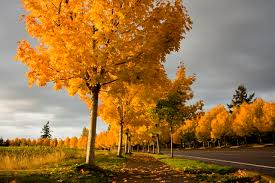tree: (42, 2, 128, 168)
